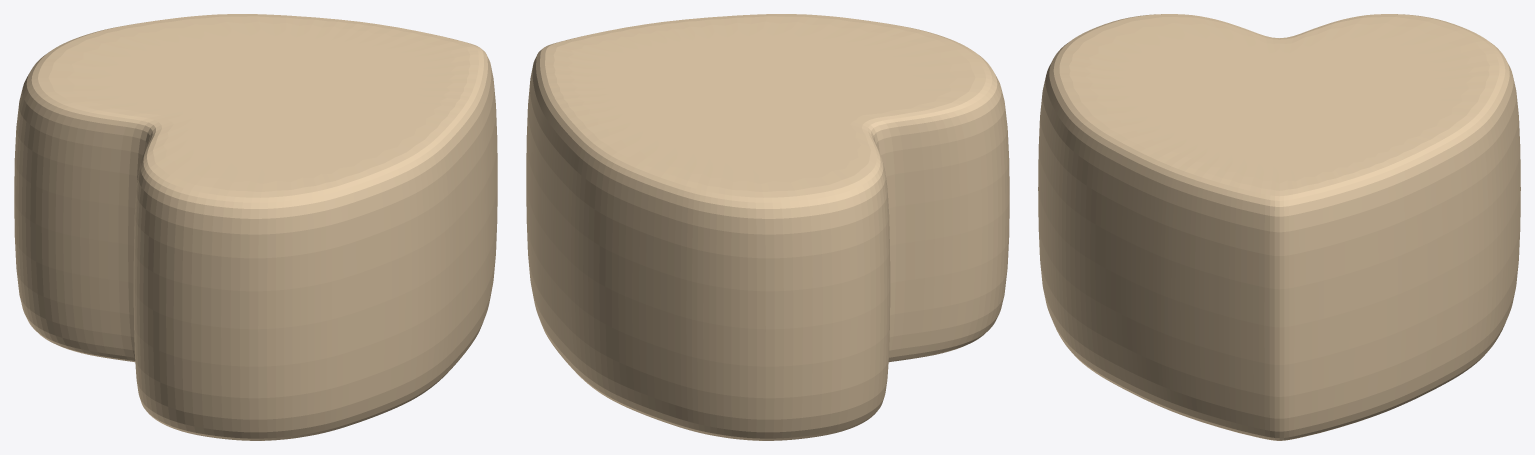
Rendered from CakeBigLayerCream.glb.
3 renders of one model, left to right at view 1: azimuth 30°, elevation 25°; view 2: azimuth 150°, elevation 25°; view 3: azimuth 270°, elevation 25°, orthographic.
Visible parts, largest first — view 1: Cylinder.007; view 2: Cylinder.007; view 3: Cylinder.007.
Boxes of the visible parts, <box> form: Cylinder.007: <box>14,14,497,440</box>; Cylinder.007: <box>526,14,1009,440</box>; Cylinder.007: <box>1038,14,1520,440</box>.
Size of the model in its own units: 1.62 by 0.9364 by 1.66.
